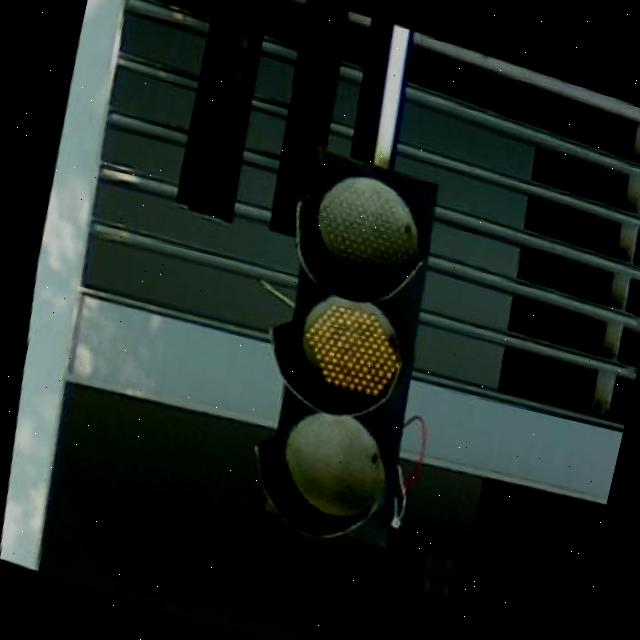yellow_light: (208, 135, 480, 550)
